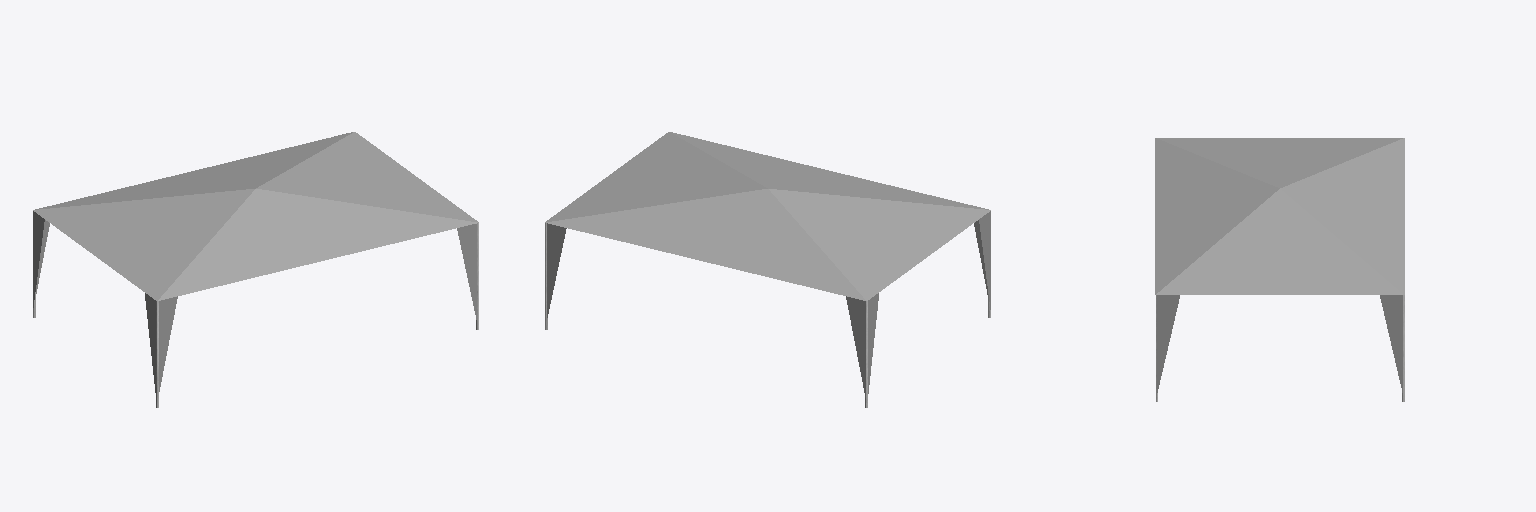
3 views of the same model, side by side, from view 1: azimuth 30°, elevation 25°; view 2: azimuth 150°, elevation 25°; view 3: azimuth 270°, elevation 25° (orthographic).
Parts seen in each view (by area): view 1: Octahedron, Plane2, Plane, Plane7, Plane4; view 2: Octahedron, Plane3, Plane1, Plane4, Plane7; view 3: Octahedron, Plane5, Plane6.
Boxes of the visible parts, x1,y1,x2,y2 form: Octahedron: [33, 132, 478, 300]; Plane2: [457, 224, 476, 319]; Plane: [159, 296, 177, 391]; Plane7: [33, 211, 44, 307]; Plane4: [145, 293, 155, 392]; Octahedron: [545, 132, 990, 300]; Plane3: [846, 296, 865, 397]; Plane1: [547, 223, 566, 317]; Plane4: [979, 211, 990, 309]; Plane7: [868, 293, 878, 393]; Octahedron: [1155, 138, 1404, 294]; Plane5: [1157, 295, 1179, 392]; Plane6: [1380, 295, 1402, 392].
Bounding box in the file's own units: 6.05 × 2.42 × 4.05.
2 materials, 1 textured.